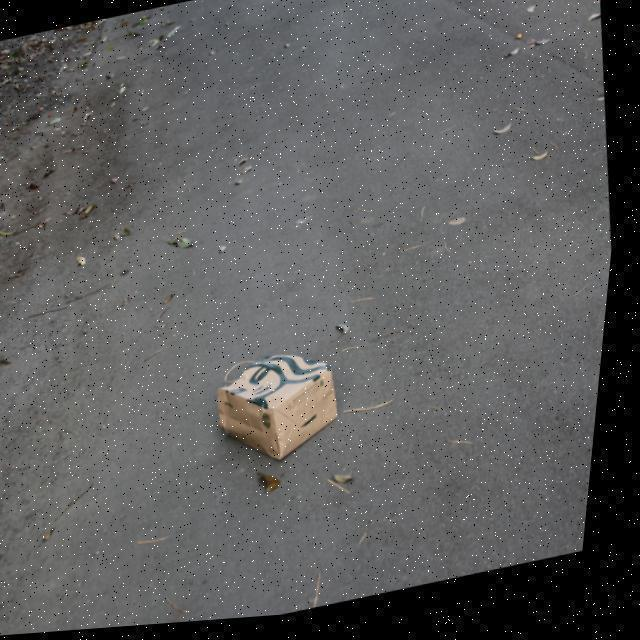Paper_Bag: (216, 347, 357, 478)
